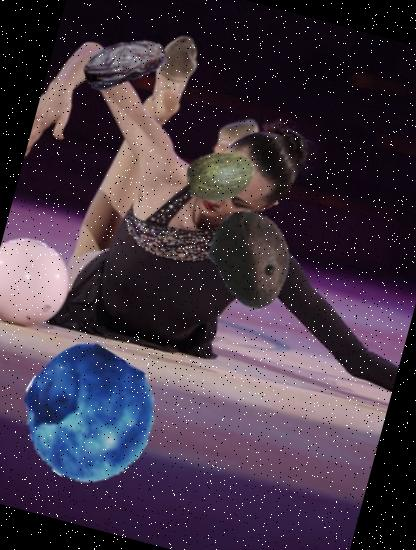Chestnut: (188, 200, 310, 322)
Dates: (74, 10, 178, 115)
Huckleberry: (6, 334, 168, 497)
Melon: (176, 130, 262, 216)
